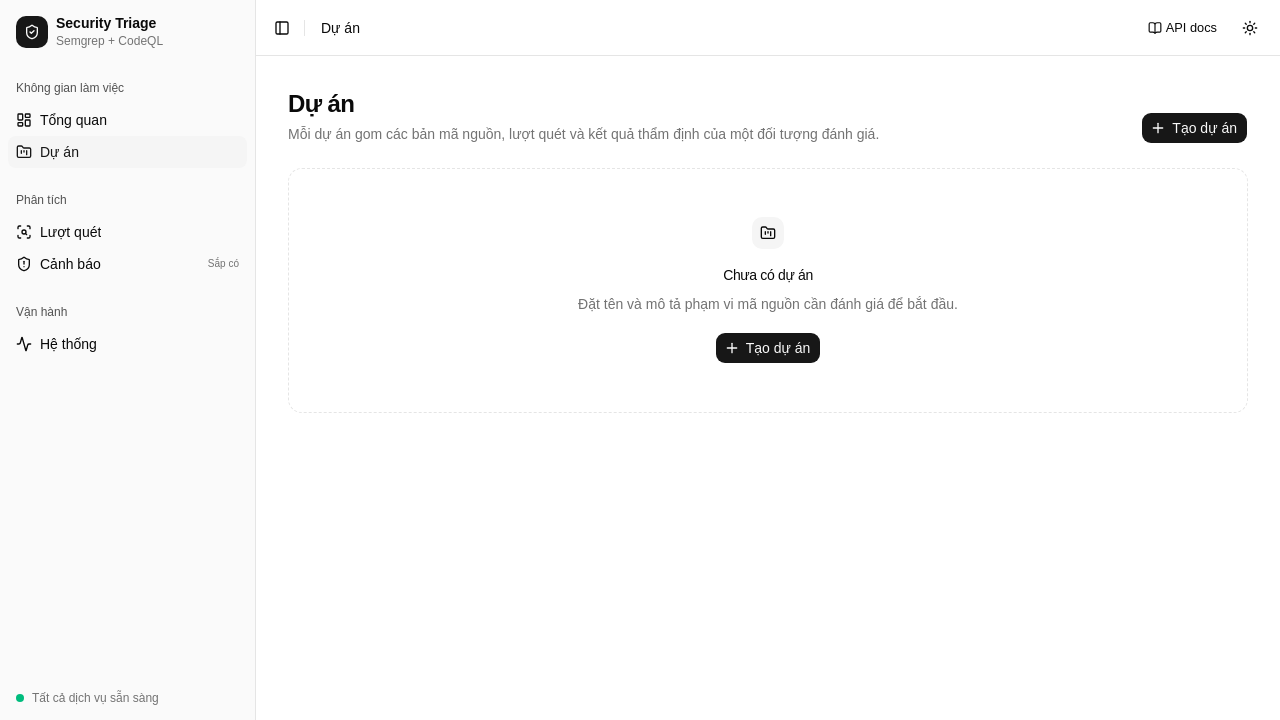
Test: Create project dialog › shows the server's validation message inside the dialog only
The width and height of the screenshot is (1280, 720).
Expected: the text "Chưa có dự án" is shown, left=723, top=265, right=813, bottom=285
Click the 1st button "Tạo dự án": (1195, 128) left=1141, top=112, right=1248, bottom=144
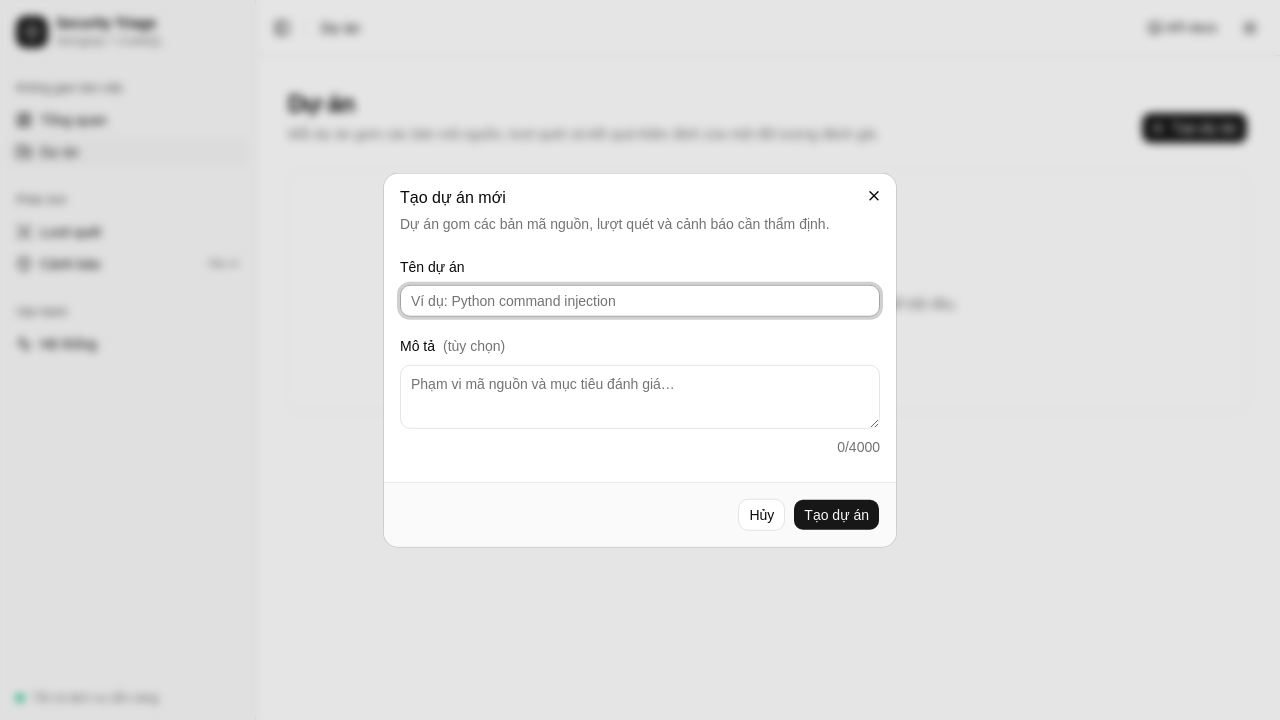
In the field labelled "Tên dự án": (640, 301) left=400, top=285, right=880, bottom=317, type "Duplicate"
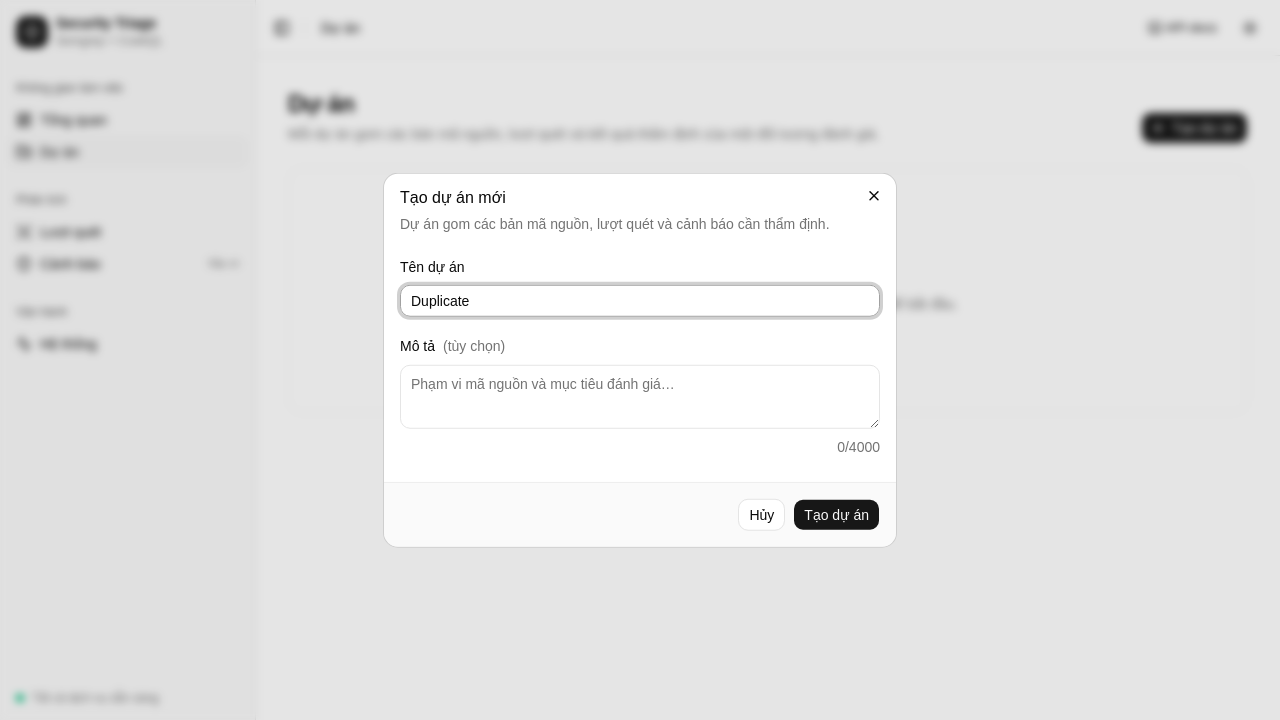
Click the button "Tạo dự án": (837, 514) left=793, top=498, right=880, bottom=530
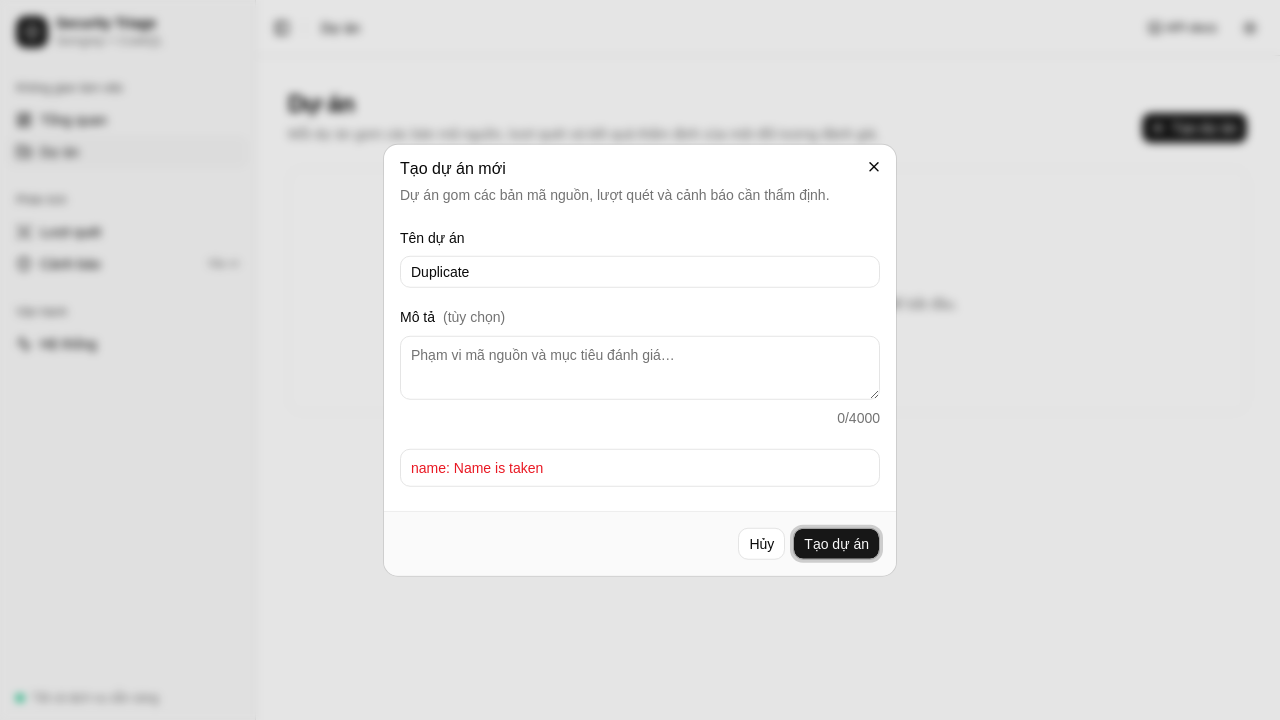
Expected: the dialog is shown, left=384, top=145, right=896, bottom=575
Expected: the text "name: Name is taken" is shown once, left=411, top=459, right=543, bottom=475
